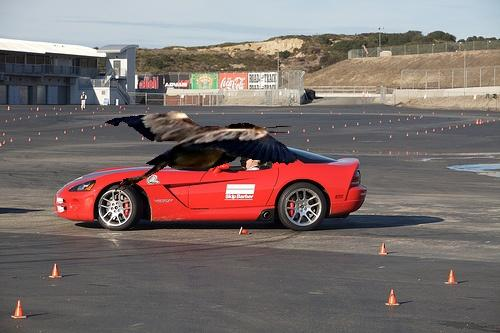tampered: (106, 112, 297, 195)
